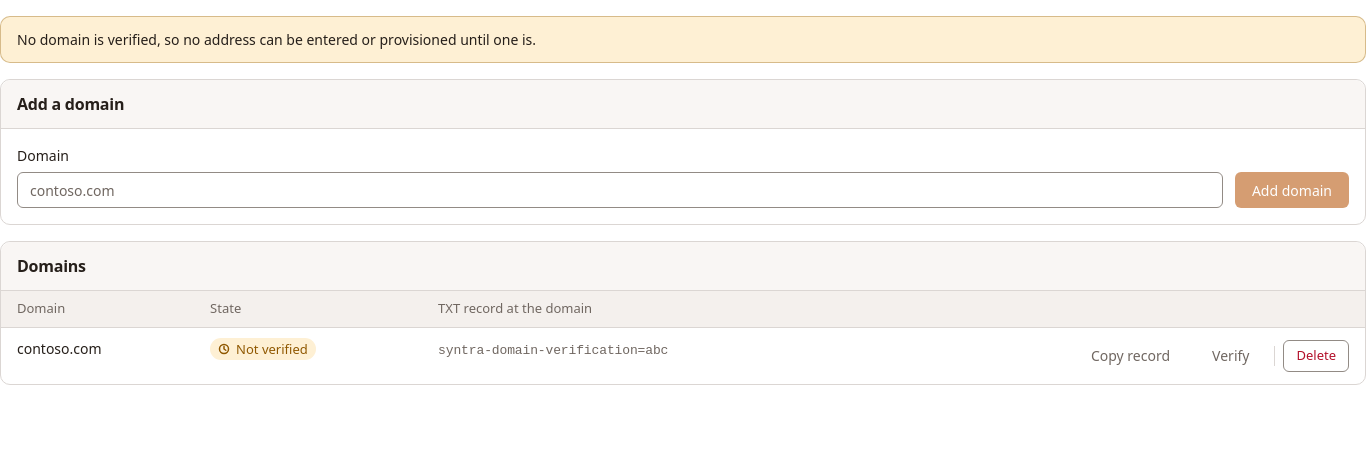
Test: DomainsTab › says why a domain did not verify
Click the button "Verify". click: [1231, 356]
box: [1195,338,1266,374]
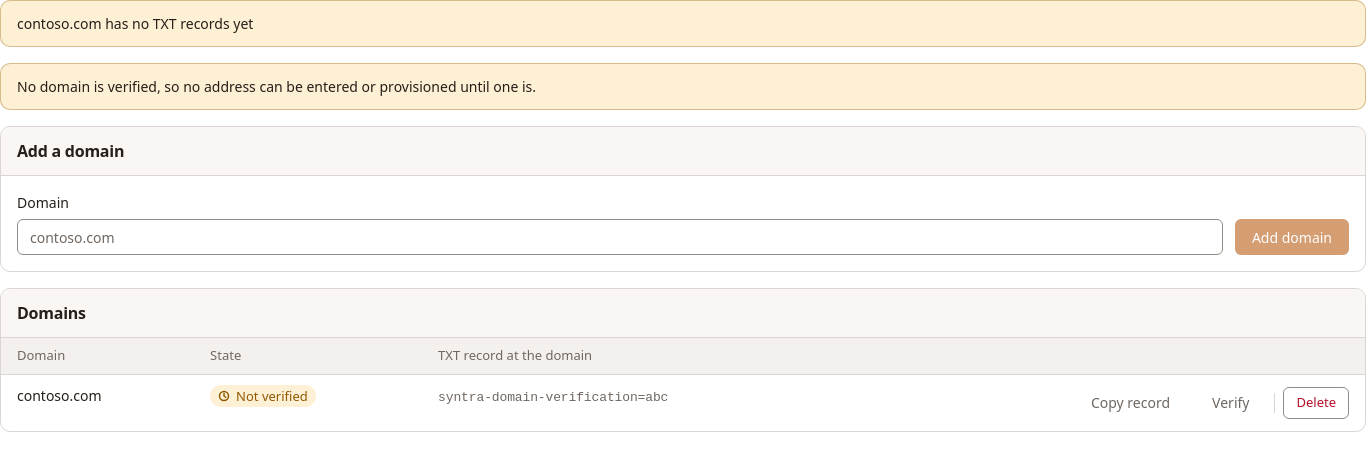
Check: the text "contoso.com has no TXT records yet" is shown, box [17,14,253,33]
